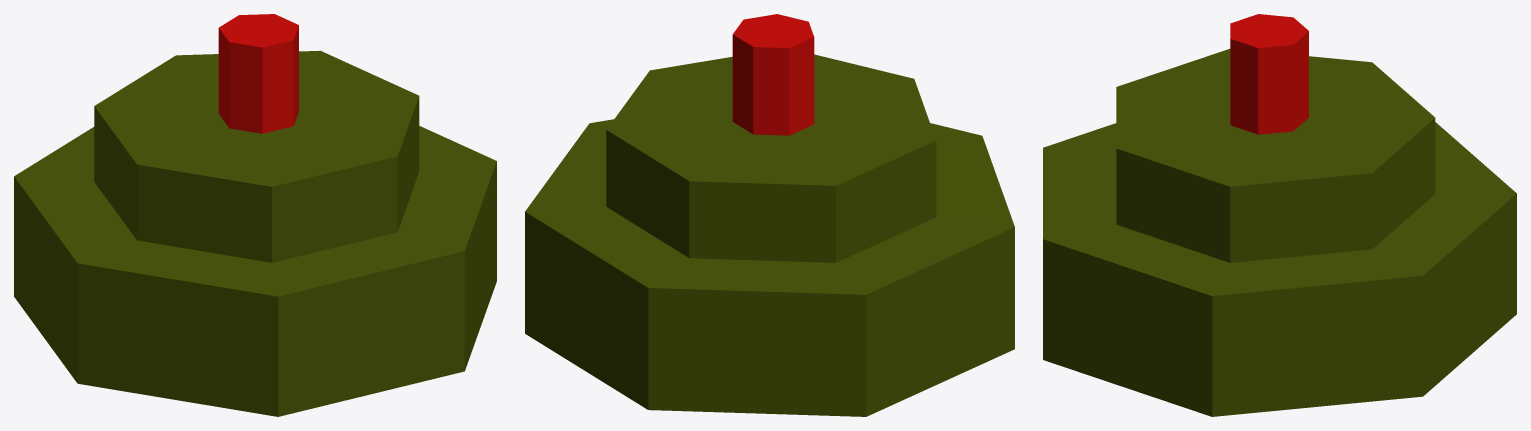
Rendered from landmine.fbx.
3 views of the same model, side by side, from view 1: azimuth 30°, elevation 25°; view 2: azimuth 150°, elevation 25°; view 3: azimuth 270°, elevation 25° (orthographic).
Parts seen in each view (by area): view 1: Cylinder; view 2: Cylinder; view 3: Cylinder.
Part boxes in pixels (box(x1,y1,x2,y2)): Cylinder: box(14, 14, 496, 416); Cylinder: box(525, 14, 1014, 416); Cylinder: box(1043, 14, 1516, 416).
Size of the model in its own units: 0.3146 by 0.2022 by 0.3067.
